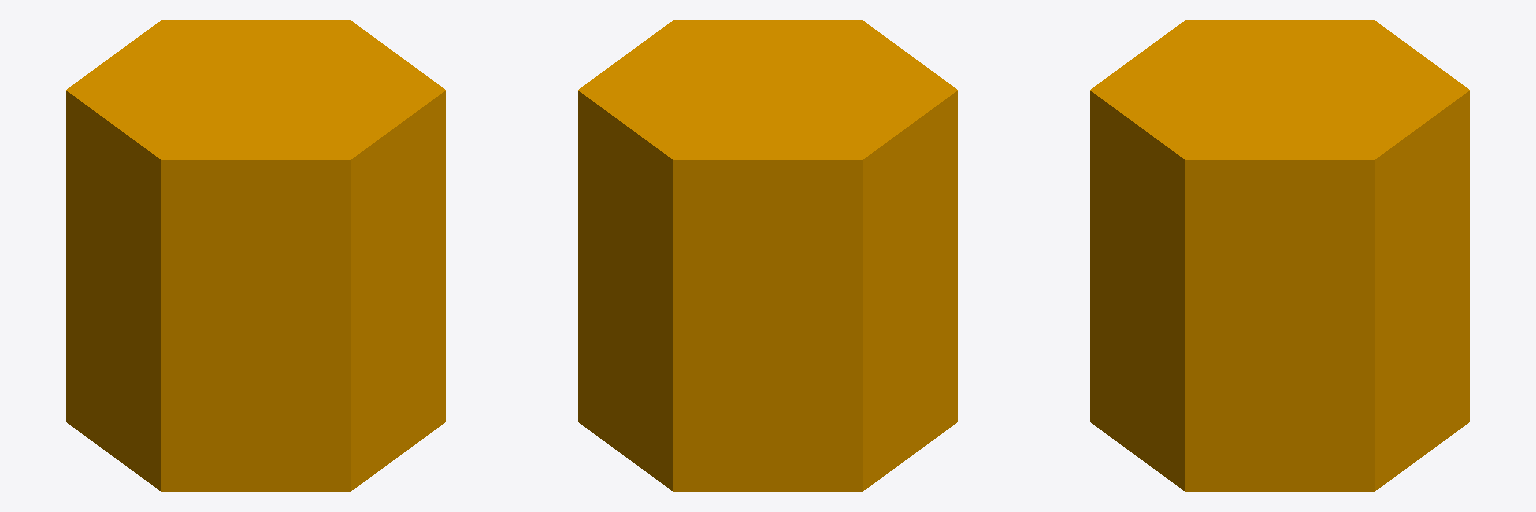
robot.urdf — 6roof.urdf:
<?xml version="1.0" ?>
<robot name="6roof.urdf">
  <link name="baseLink">
    <contact>
    	<friction_anchor/>
    	   <lateral_friction value="1.0"/>
    </contact>
    <inertial>
      <origin rpy="0 0 0" xyz="0 0 0"/>
       <mass value="0.01"/>
       <inertia ixx="1" ixy="0" ixz="0" iyy="1" iyz="0" izz="1"/>
    </inertial>
    <visual>
      <origin rpy="0 0 1.5707" xyz="0 0 0"/>
      <geometry>
				<mesh filename="hexagonal_prism.obj" scale="0.6236 0.6236 1.2"/>
      </geometry>
    </visual>
    <collision>
      <origin rpy="0 0 1.5707" xyz="0 0 0"/>
      <geometry>
        <mesh filename="hexagonal_prism.obj" scale="0.6236 0.6236 1.2"/>
      </geometry>
    </collision>
  </link>
</robot>

--- Facts derived from the render (not from the file) ---
3 views of the same robot in one strip: view 1: azimuth 30°, elevation 25°; view 2: azimuth 150°, elevation 25°; view 3: azimuth 270°, elevation 25° (orthographic).
Robot: 6roof.urdf — 1 links, 0 joints (none); root link baseLink; default pose: every joint at zero.
Links seen in each view (by area): view 1: baseLink; view 2: baseLink; view 3: baseLink.
Link boxes in pixels (box(x1,y1,x2,y2)): baseLink: box(66, 20, 445, 491); baseLink: box(578, 20, 957, 491); baseLink: box(1090, 20, 1469, 491).
Size in the robot's own frame: 0.054 by 0.0624 by 0.06 metres.
1 mesh visuals loaded from 1 distinct referenced files (1 OBJ).